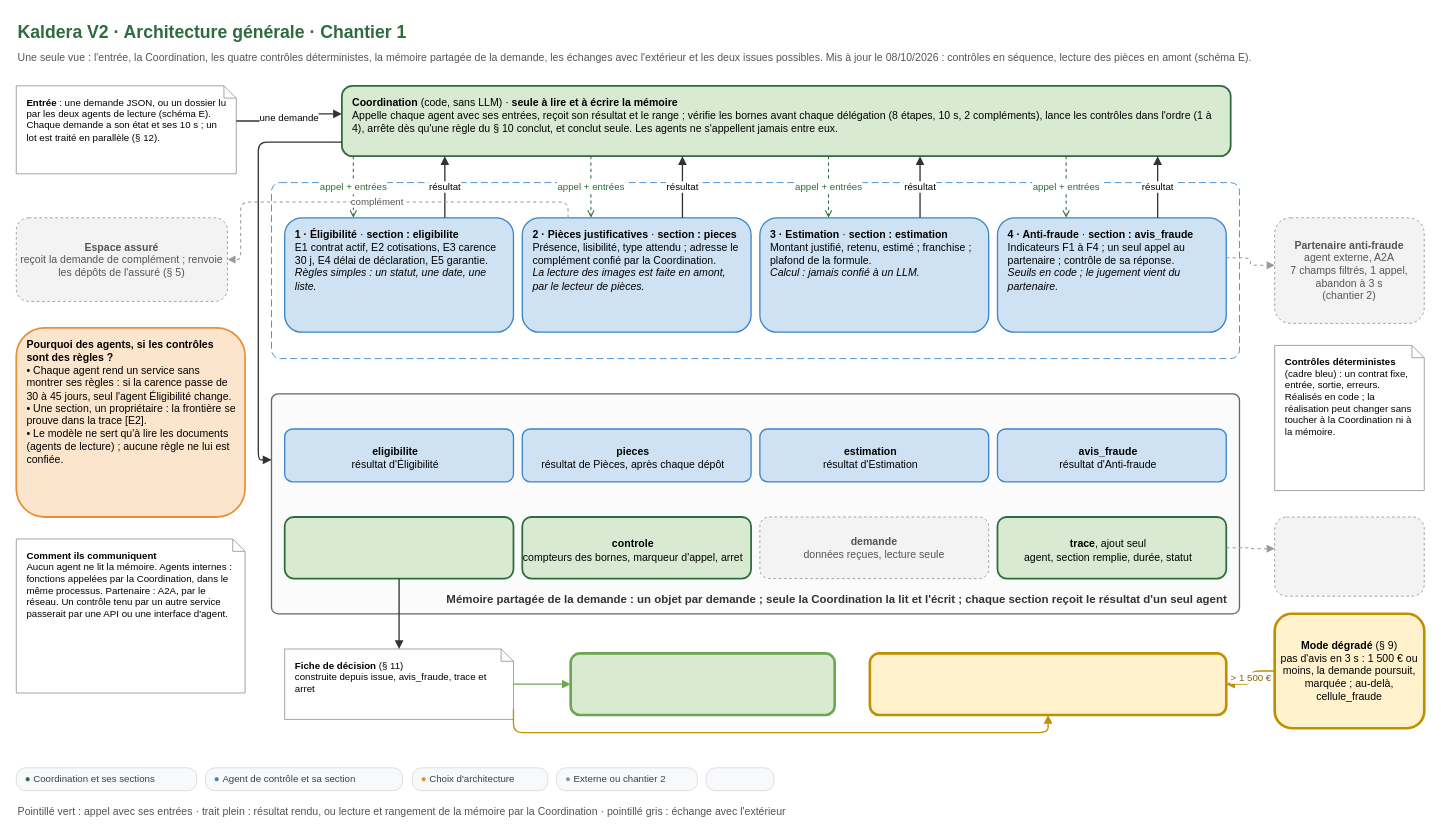
The diagram is 1441 pixels wide and 832 high, and some of its shapes have lost their labels. The shapes that lost their labels are listed below. From the top down, each one's centre as x and y in pixels, then its label:
At [398,547]: "issue décision ou escalade, motif".
At [1349,556]: "Métriques par agent appels, échecs, latence, appels externes (interface.md)".
At [702,684]: "Décision acceptée (montant) ou refusée, avec un motif".
At [1047,684]: "Escalade motivée vers une file humaine gestionnaire ou cellule_fraude".
At [739,779]: "● Escalade".
